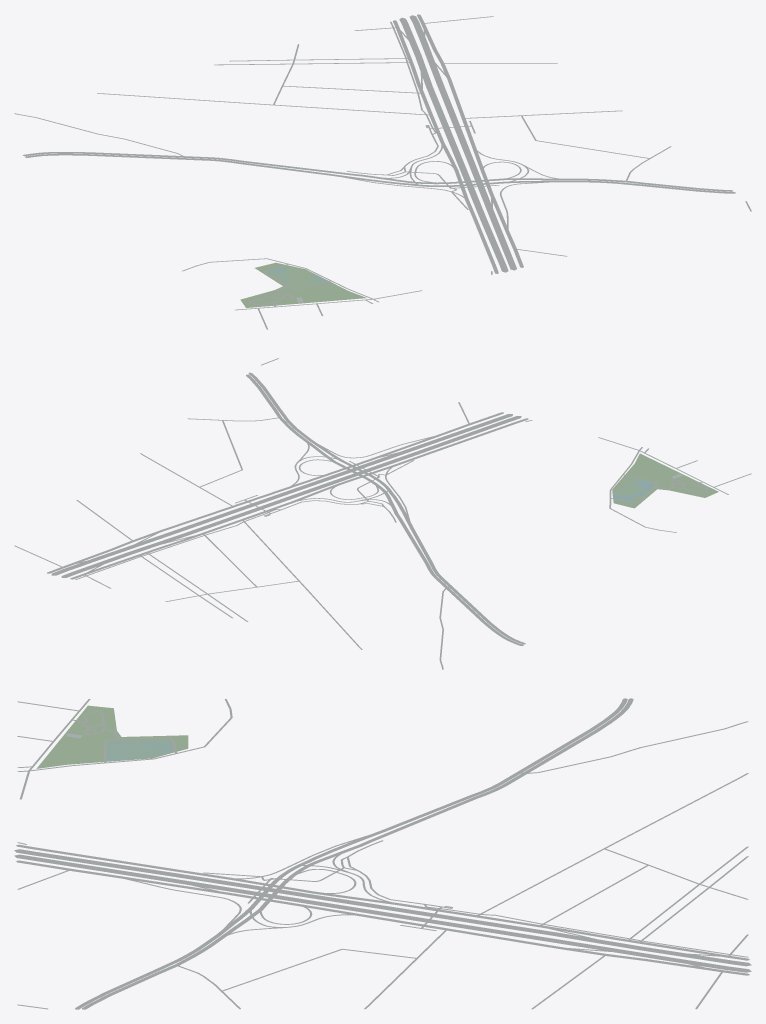
File: -20_21-known-fine.glb
3 renders of one model, top to bottom at view 1: azimuth 30°, elevation 25°; view 2: azimuth 150°, elevation 25°; view 3: azimuth 270°, elevation 25°, orthographic. The views are drawn at different scales.
Size of the model in its own units: 1006 by 0.15 by 1006.
